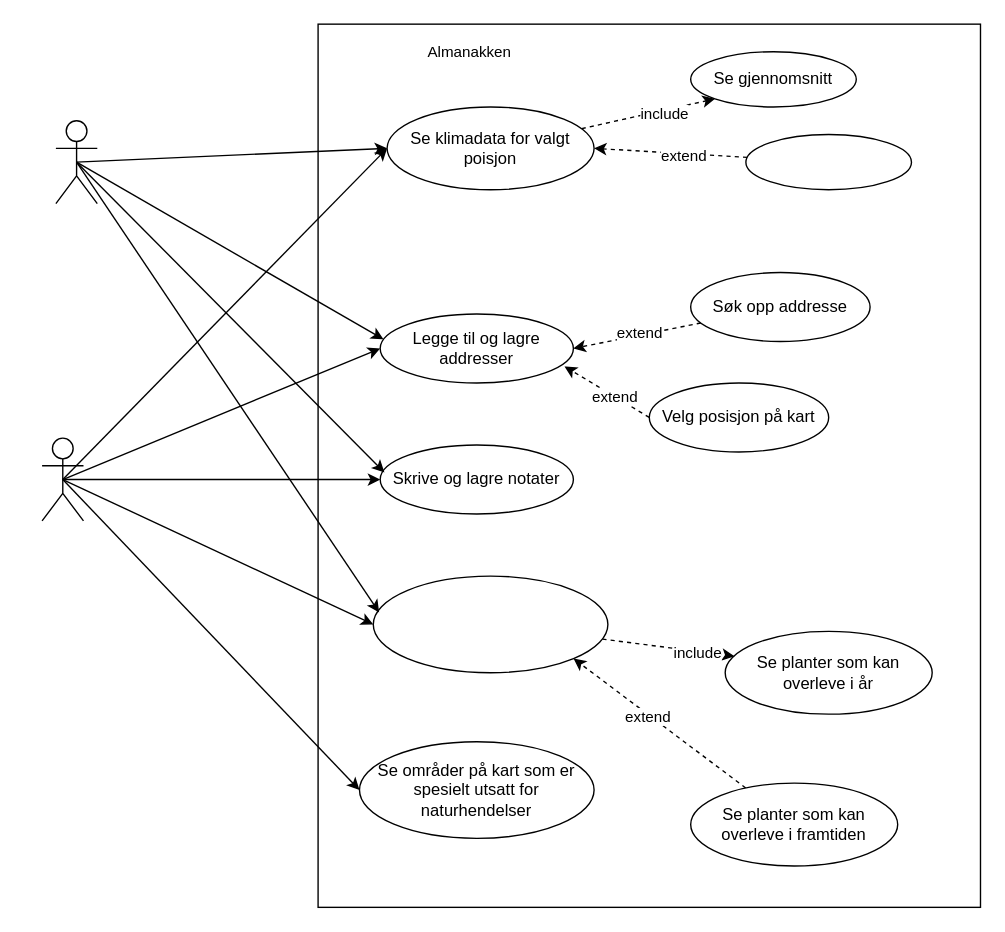
This 1005x932 diagram has some shape labels left out. Each missing label, with the centre of its shape:
Bonde: the point at 62,479
Hageentusiast: the point at 76,161
Se hvilke planter som kan overleve på valgt posisjon: the point at 490,624
Se klimadata i bakover i tid: the point at 828,161
